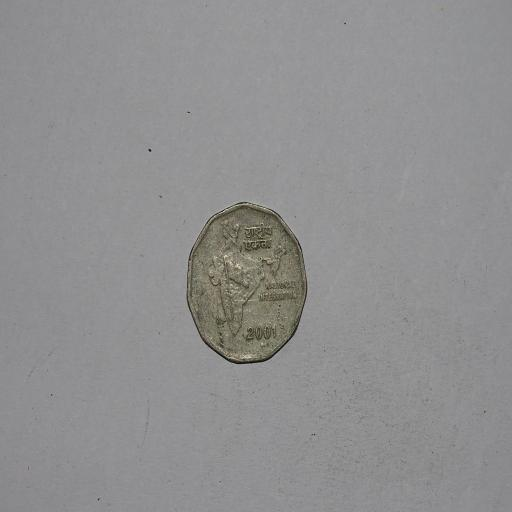rupee2: (182, 199, 312, 367)
